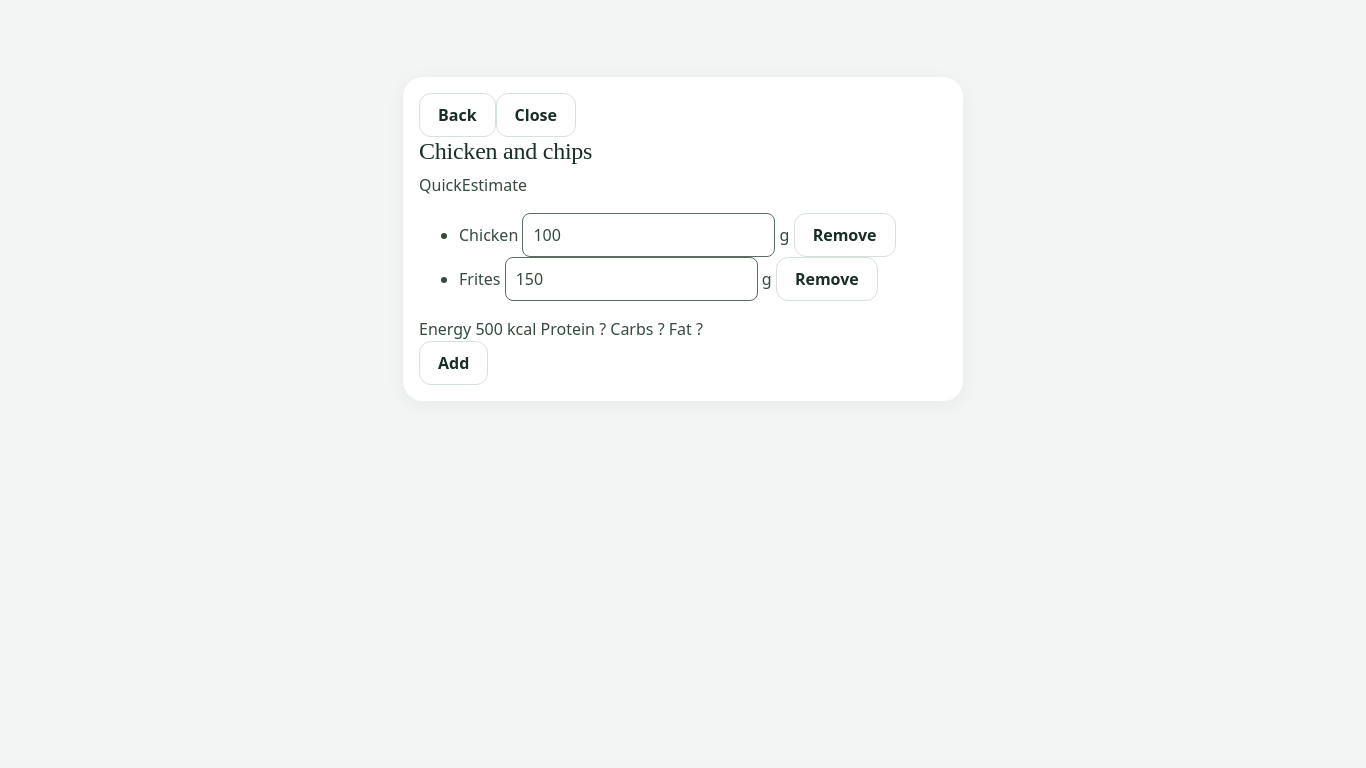
Test case: MealTemplateSheet › empty grams make totals unknown and disable Add
Expected: the text "Chicken" is shown, left=459, top=224, right=518, bottom=246
Clear the field named "Grams of Chicken". click: (649, 235)
box: left=522, top=213, right=775, bottom=257
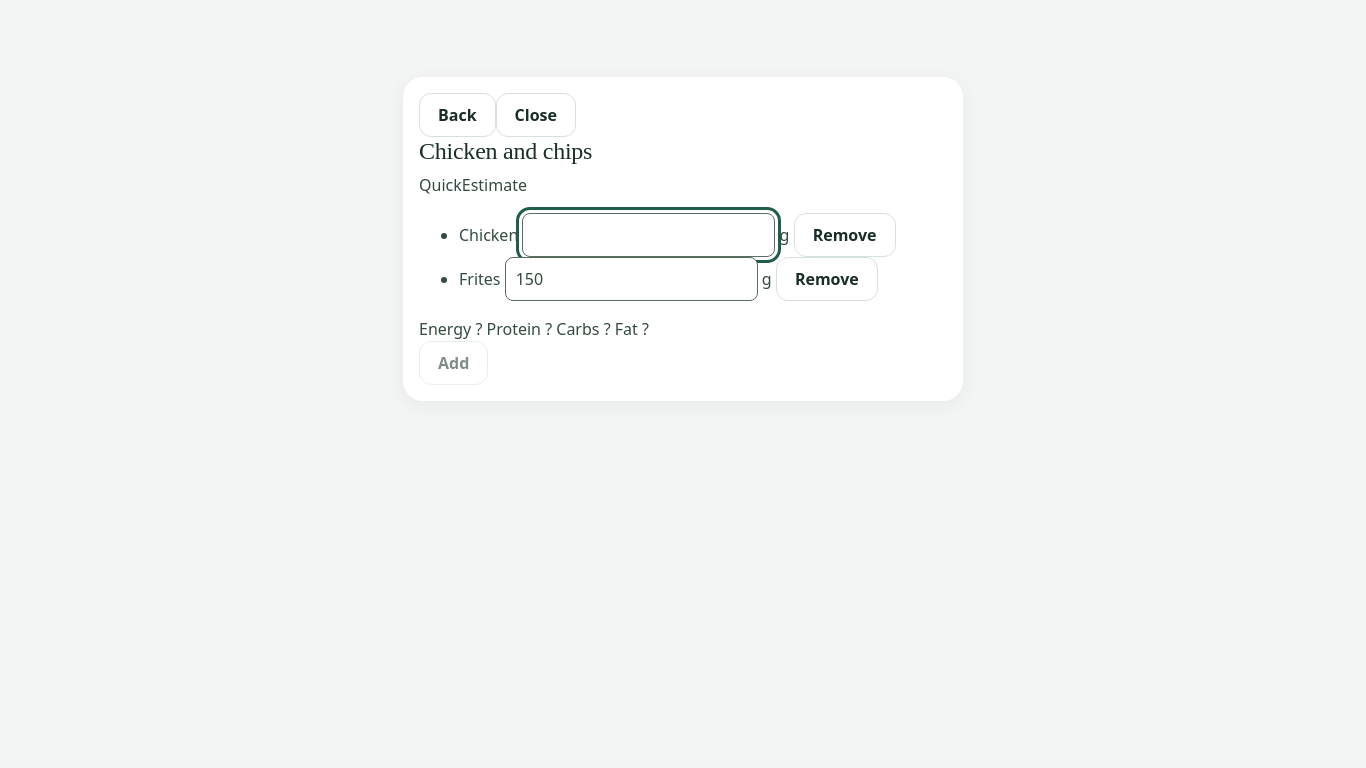
Expected: the element with test id "totals" shows "Energy ?", left=419, top=318, right=486, bottom=340
Expected: the button "Add" is disabled, left=419, top=341, right=488, bottom=385
